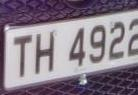2: (108, 19, 126, 65), (127, 16, 138, 58)
4: (66, 24, 89, 70)
9: (87, 22, 110, 67)
H: (33, 28, 58, 79)
T: (10, 31, 36, 82)
